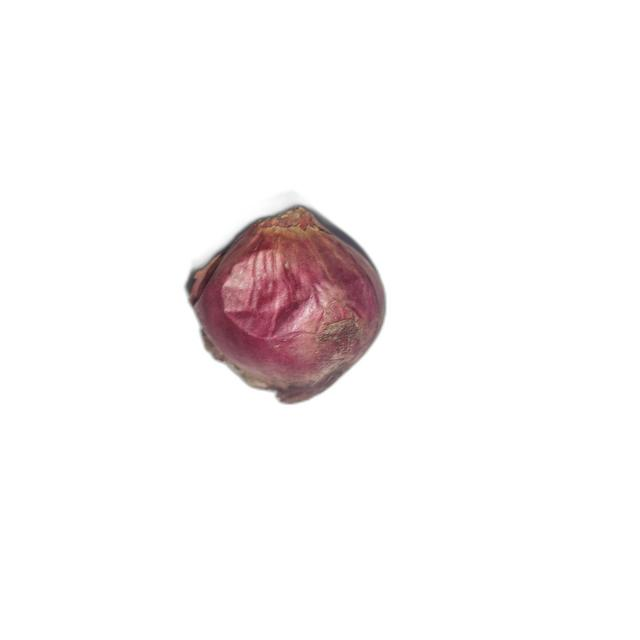onion: (190, 207, 386, 404)
